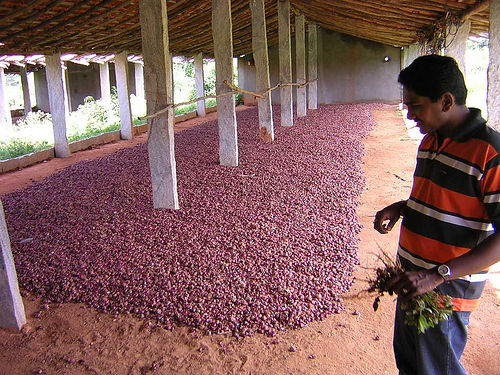without_mask: (400, 80, 458, 135)
